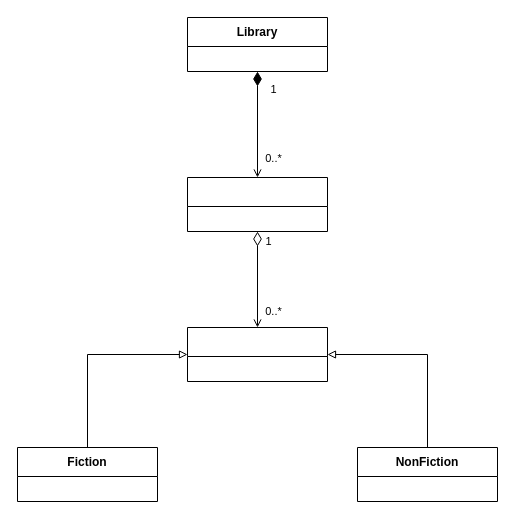
Image size: 515x519. Some labels were removed from this diagram. The shapes that lost their labels are listed below. From the top down, each one's centre as x and y in pixels, then its label:
pixel 257 204: Bookshelf
pixel 257 354: Book
